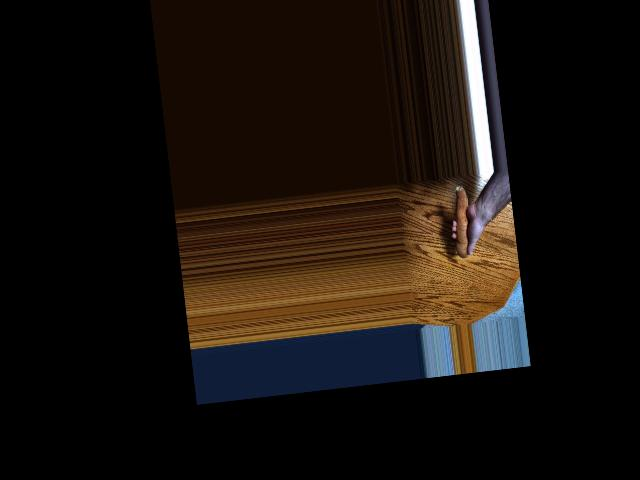sweet_potato: (447, 182, 480, 259)
